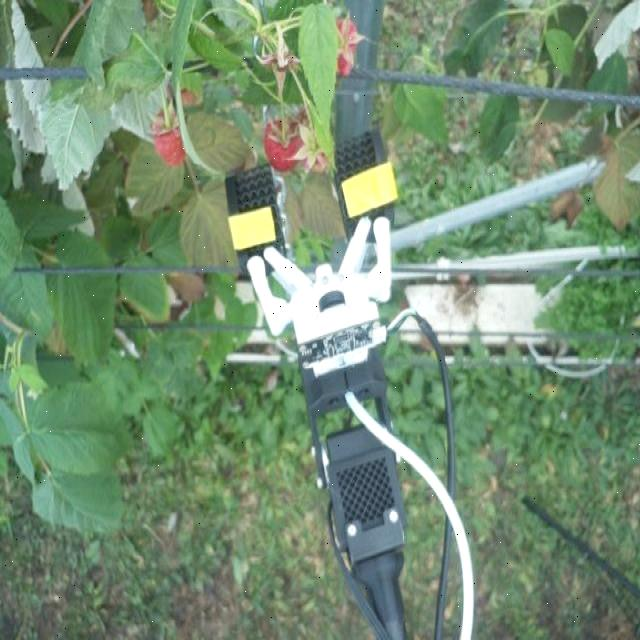Riped berries: (262, 111, 305, 171), (149, 110, 192, 166), (324, 16, 364, 74)
